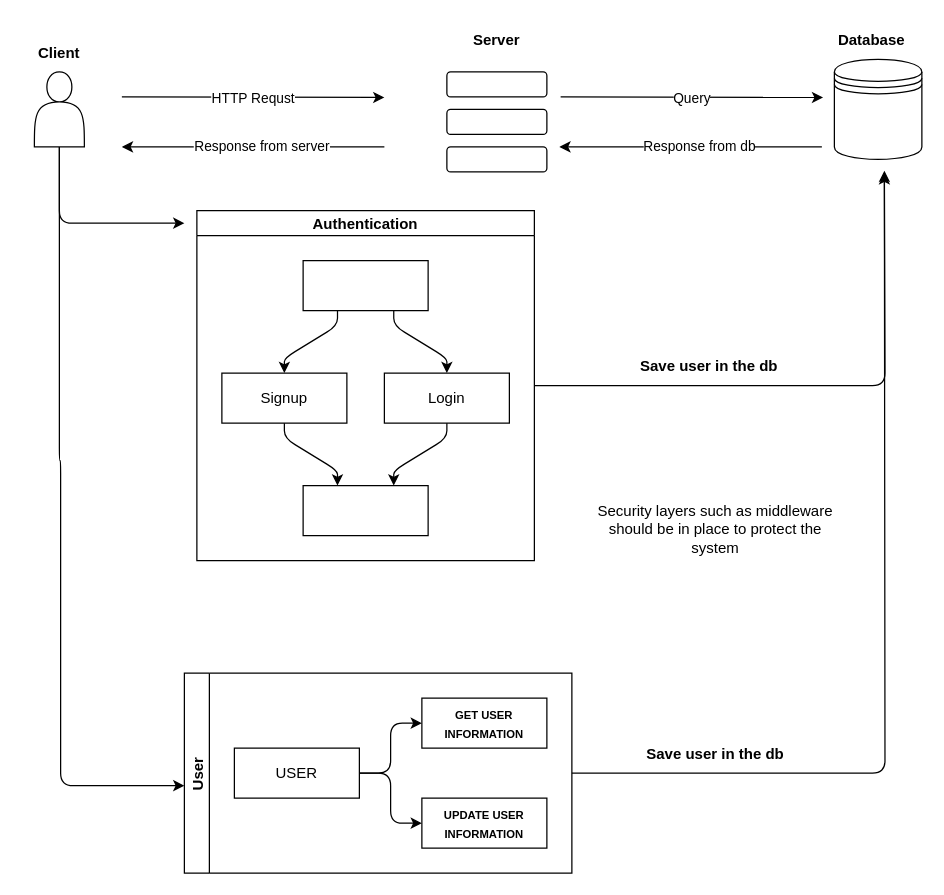
The diagram is 944 pixels wide and 895 high, and some of its shapes have lost their labels. Each missing label, with the centre of its shape:
auth: the point at 365,285
JWT TOKEN: the point at 365,510
